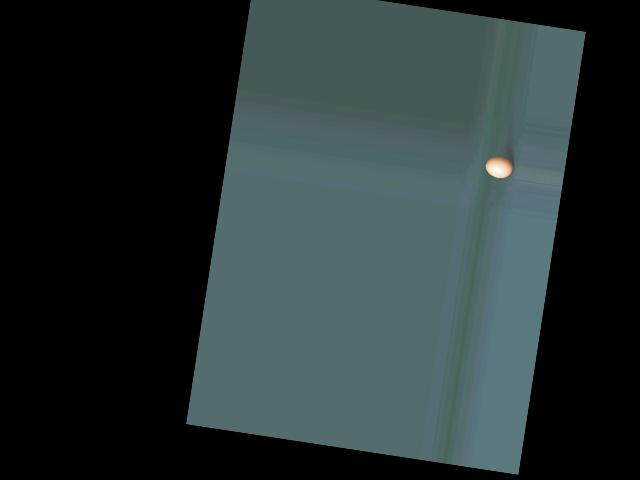egg: (484, 154, 514, 179)
